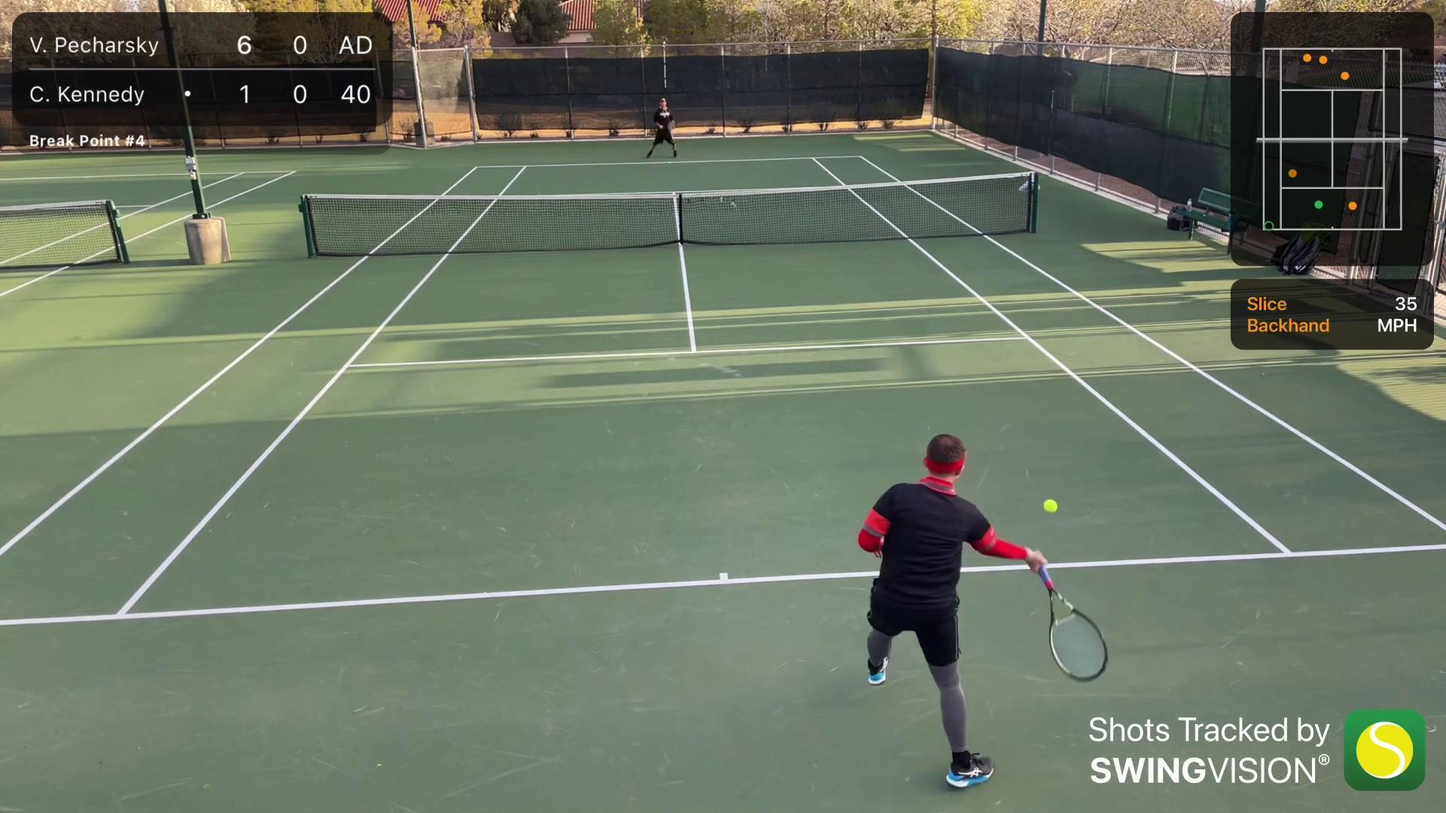ball: (1040, 496, 1063, 517)
